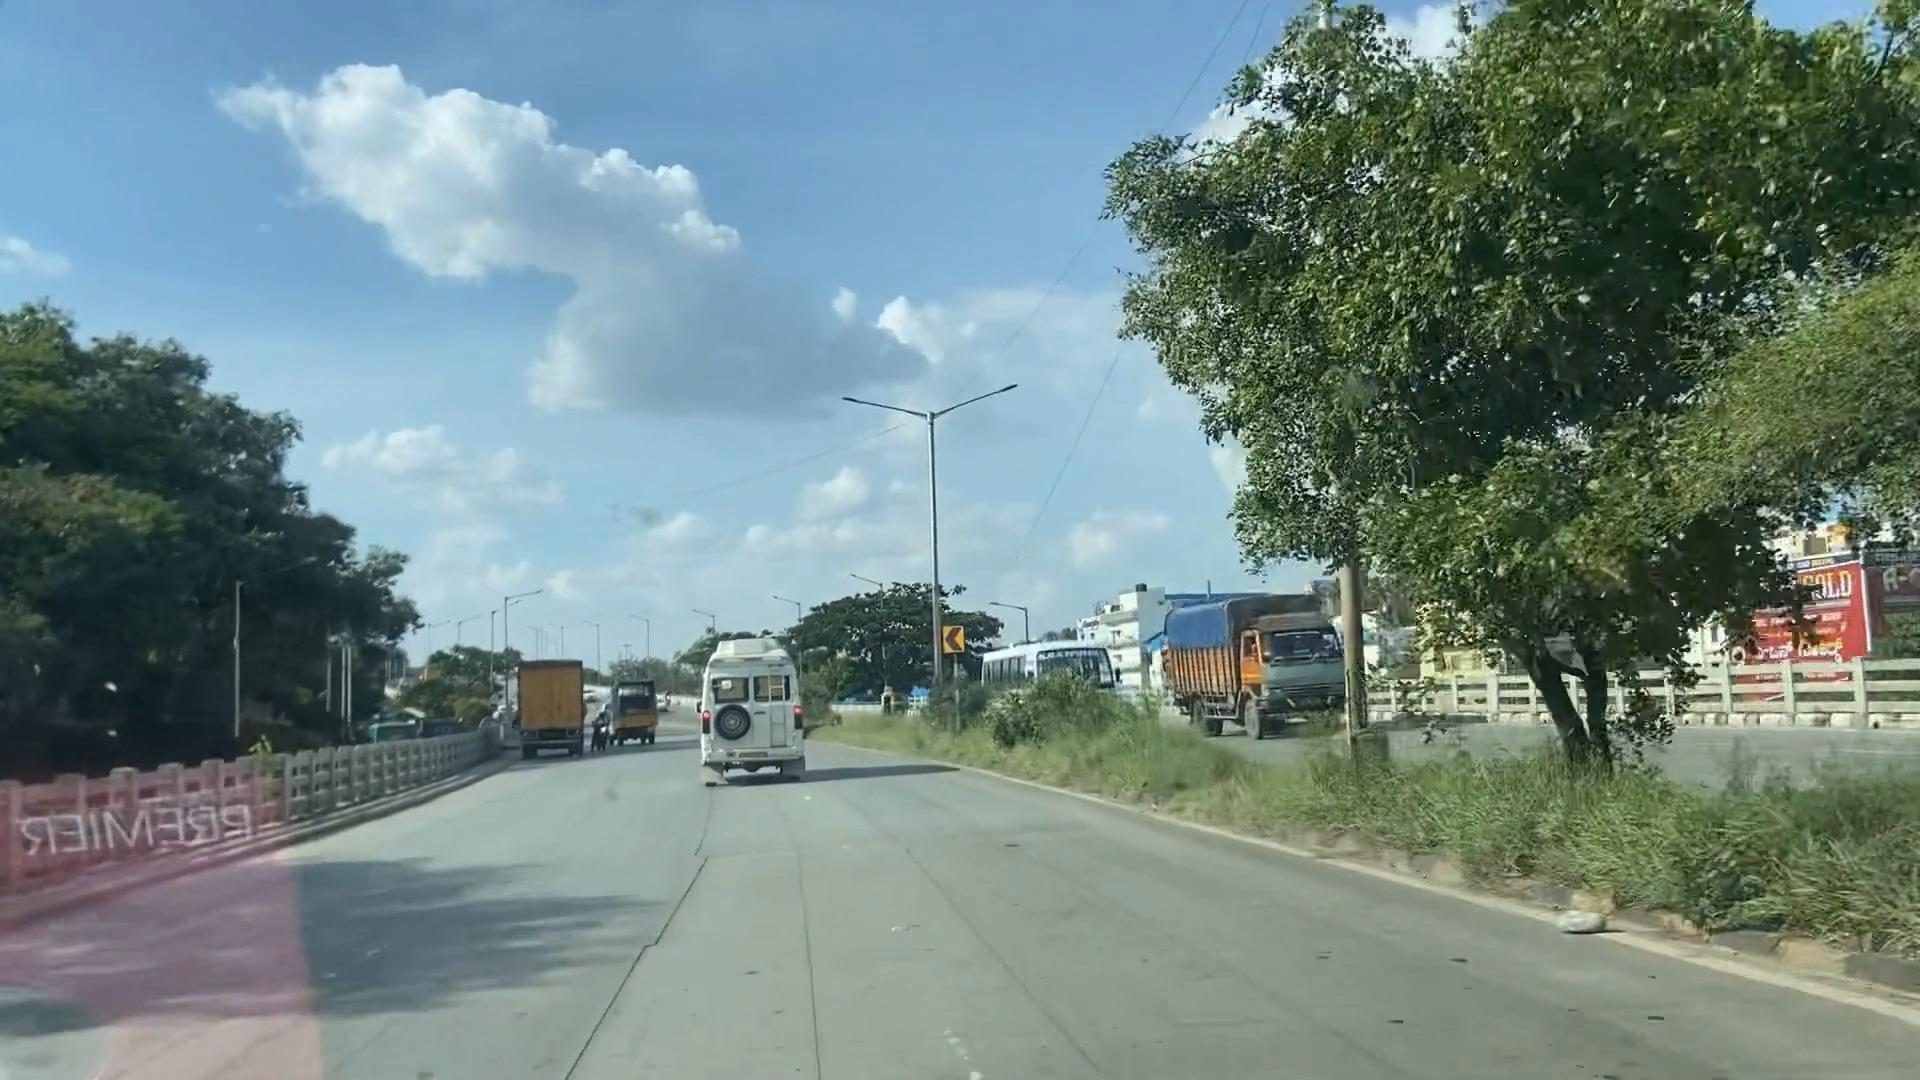HMV: (688, 649, 841, 786), (525, 641, 589, 756)
